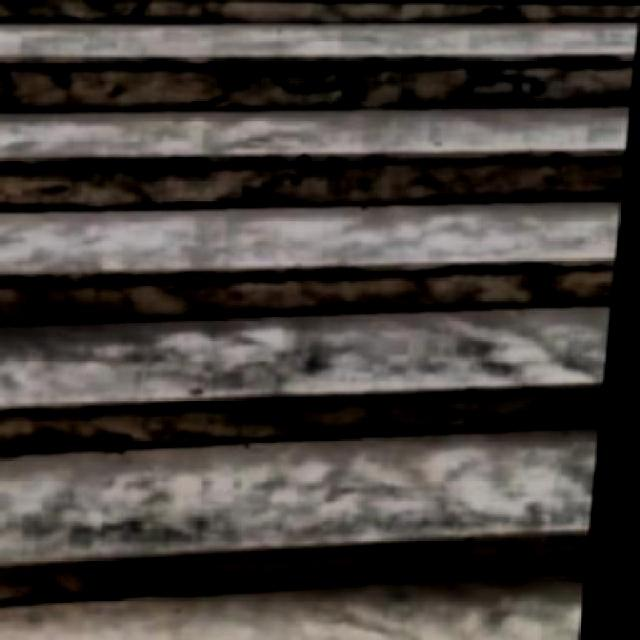stair: (0, 0, 638, 604)
